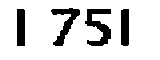5: (83, 7, 114, 51)
7: (50, 4, 81, 50)
I: (13, 6, 36, 48), (118, 6, 135, 52)
